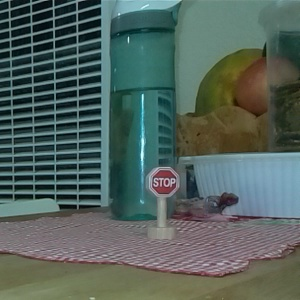stop sign: (144, 165, 180, 243)
